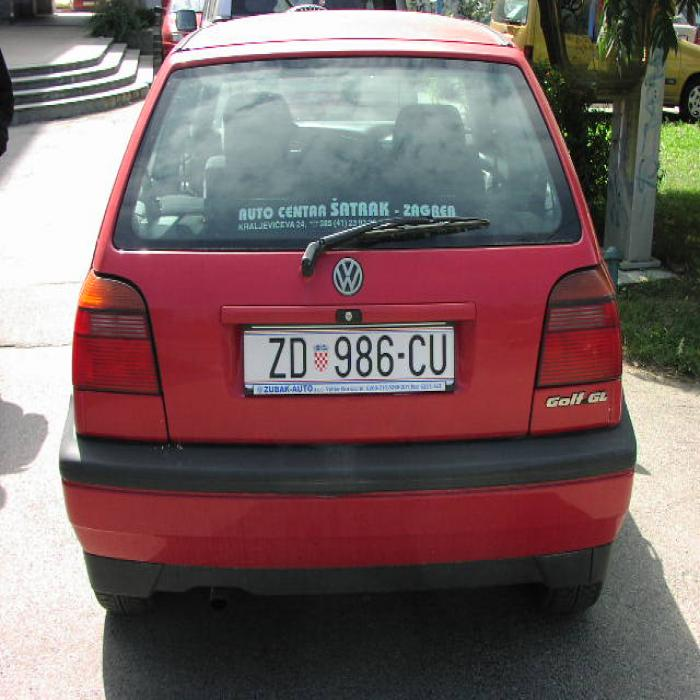number_plate: (243, 331, 449, 378)
